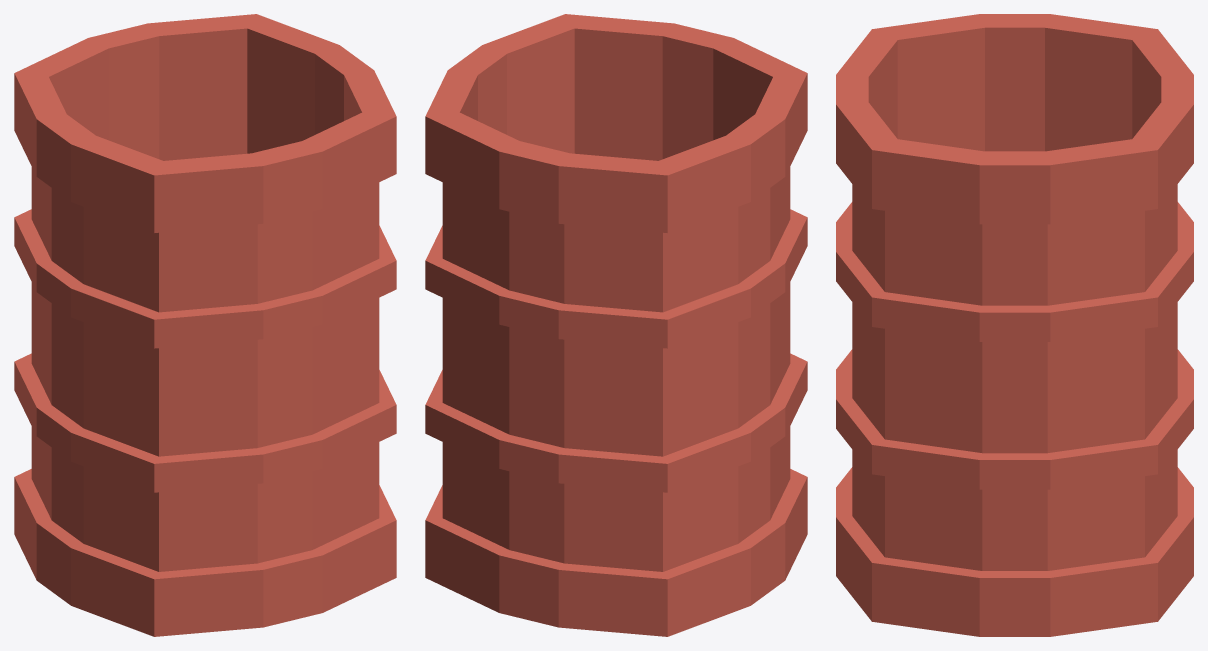
The model's file is barrel-open.obj.
The picture shows the model from 3 angles, left to right: view 1: azimuth 30°, elevation 25°; view 2: azimuth 150°, elevation 25°; view 3: azimuth 270°, elevation 25°; orthographic projection. The views are drawn at different scales.
Bounding box in the file's own units: 0.2365 × 0.344 × 0.2365.
